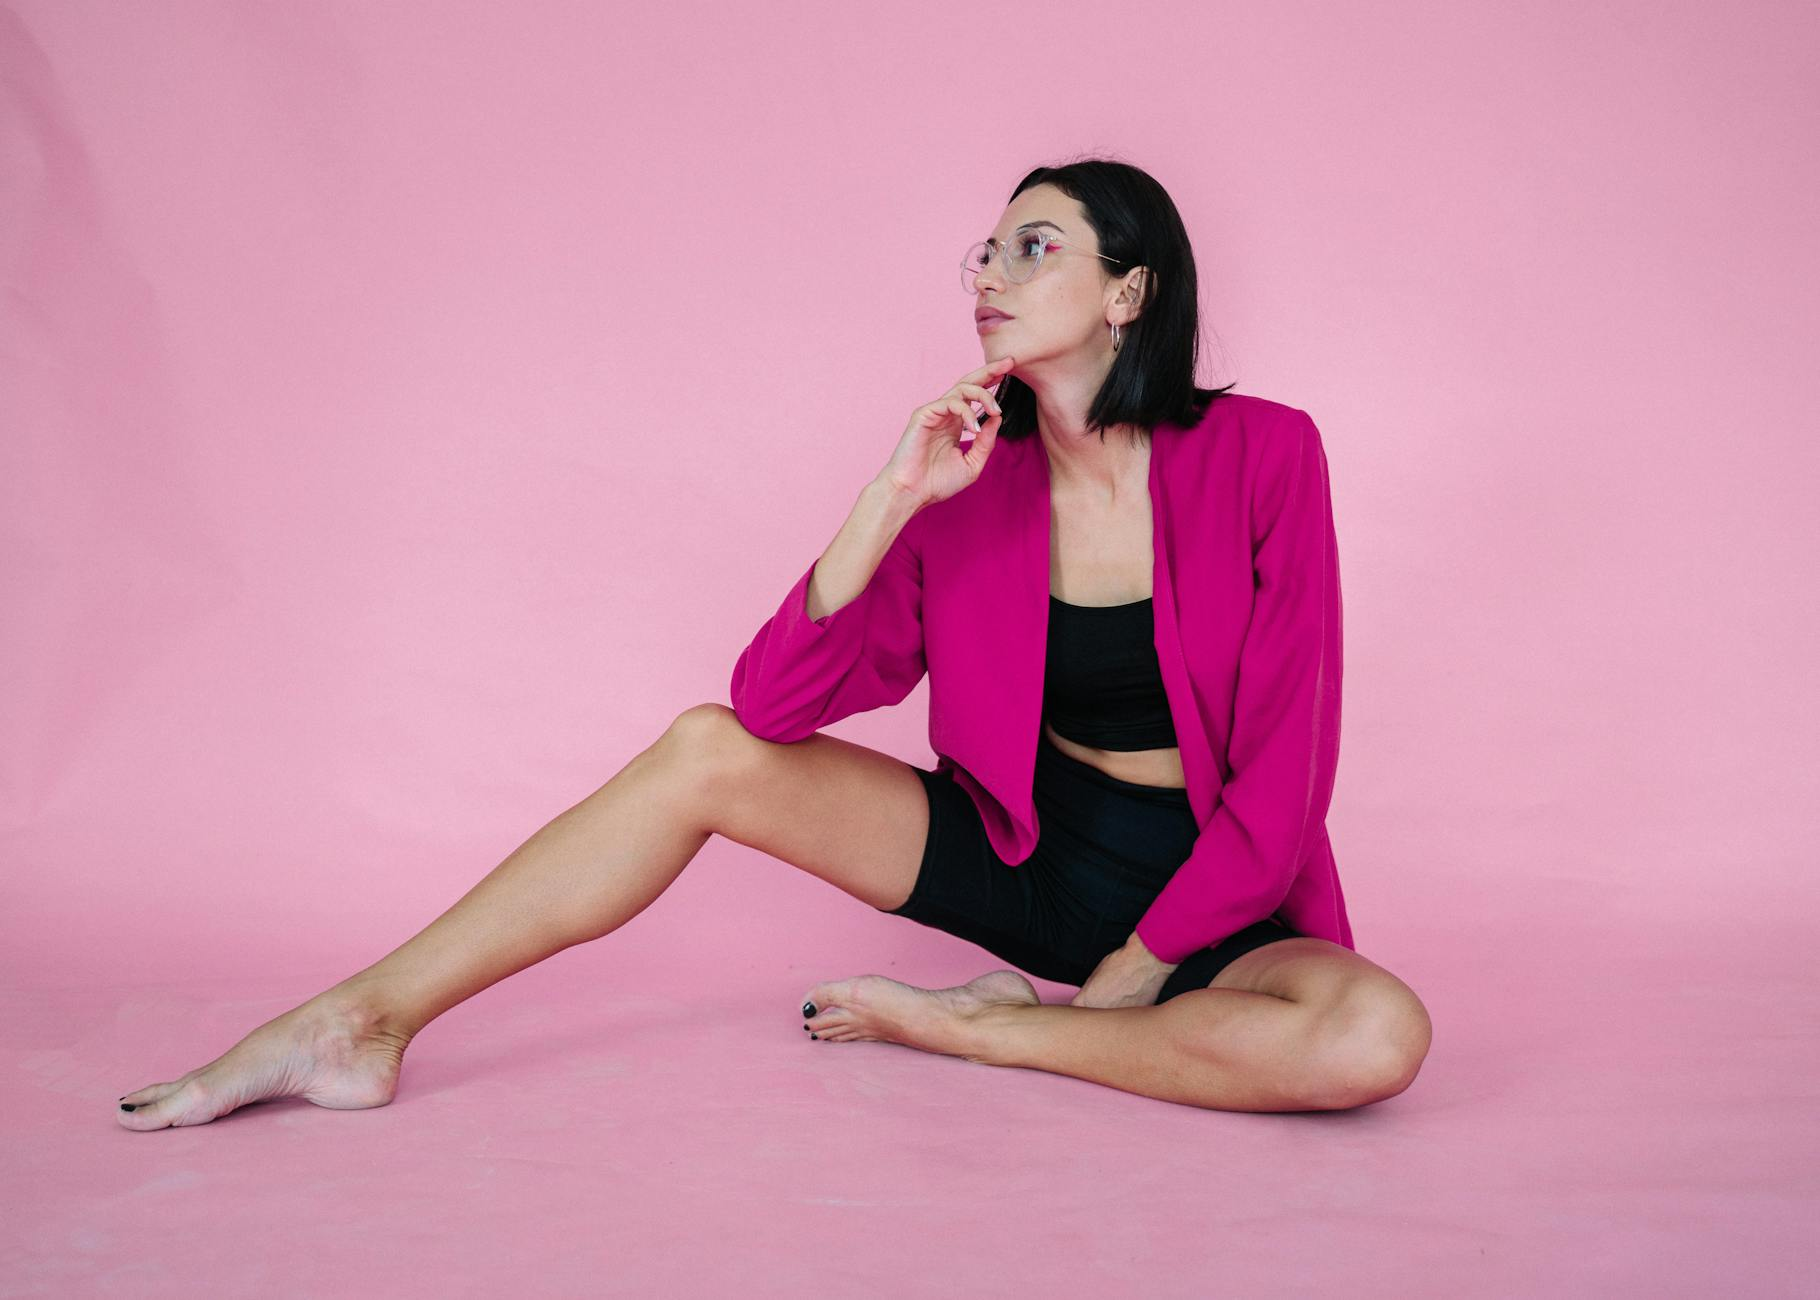crop_top: (983, 559, 1242, 760)
opened_foot: (86, 1012, 419, 1135), (775, 950, 1055, 1073)
shorts: (850, 733, 1256, 983)
